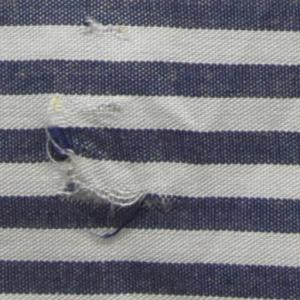Damage: (40, 86, 185, 246), (76, 14, 144, 50)
